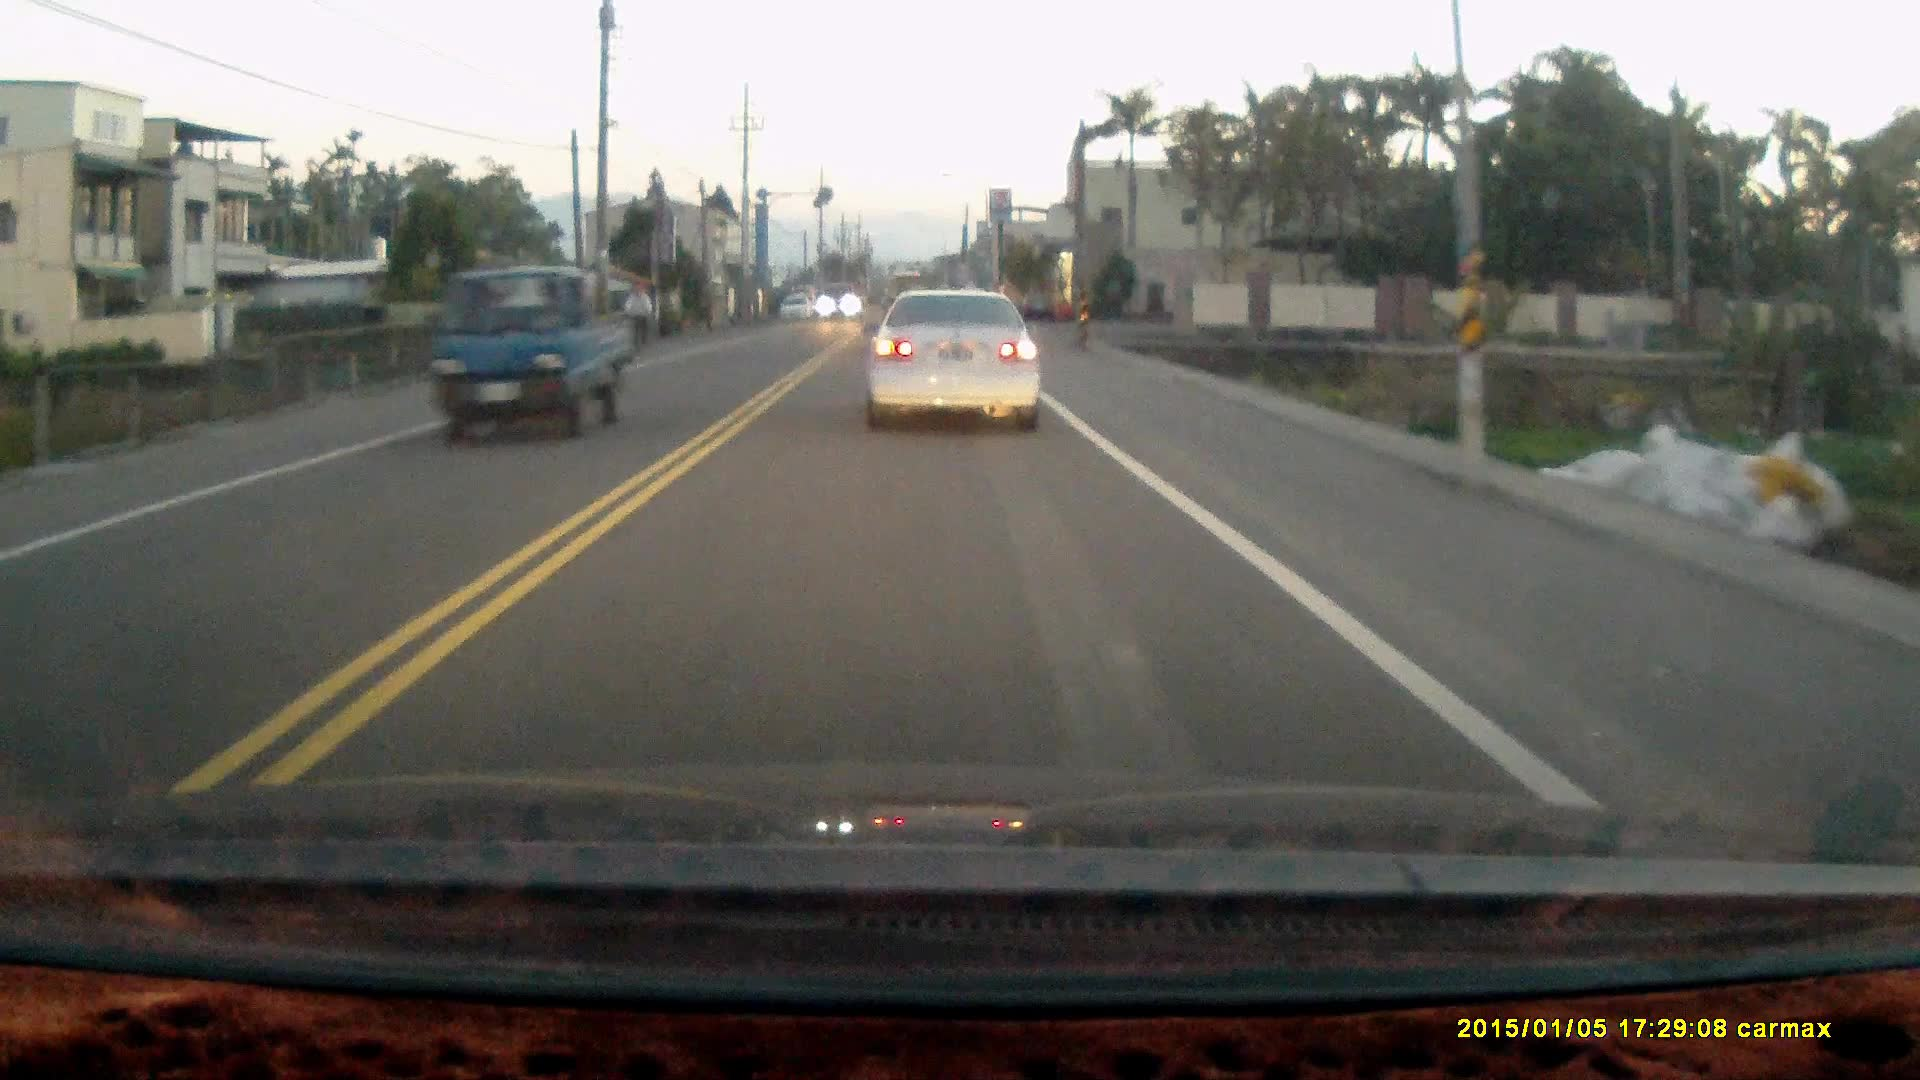rider: (621, 277, 651, 359)
vehicle: (428, 263, 637, 444), (869, 289, 1046, 428), (818, 280, 856, 320), (1020, 288, 1057, 320), (779, 294, 812, 323)
